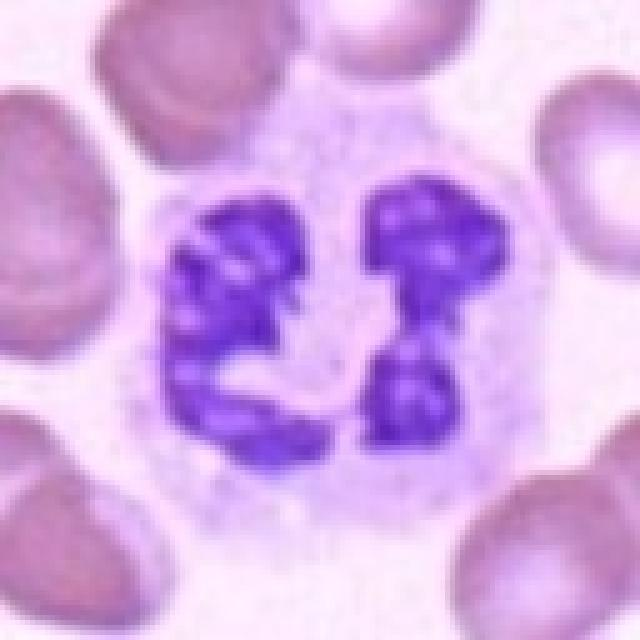neutro: (134, 25, 561, 517)
